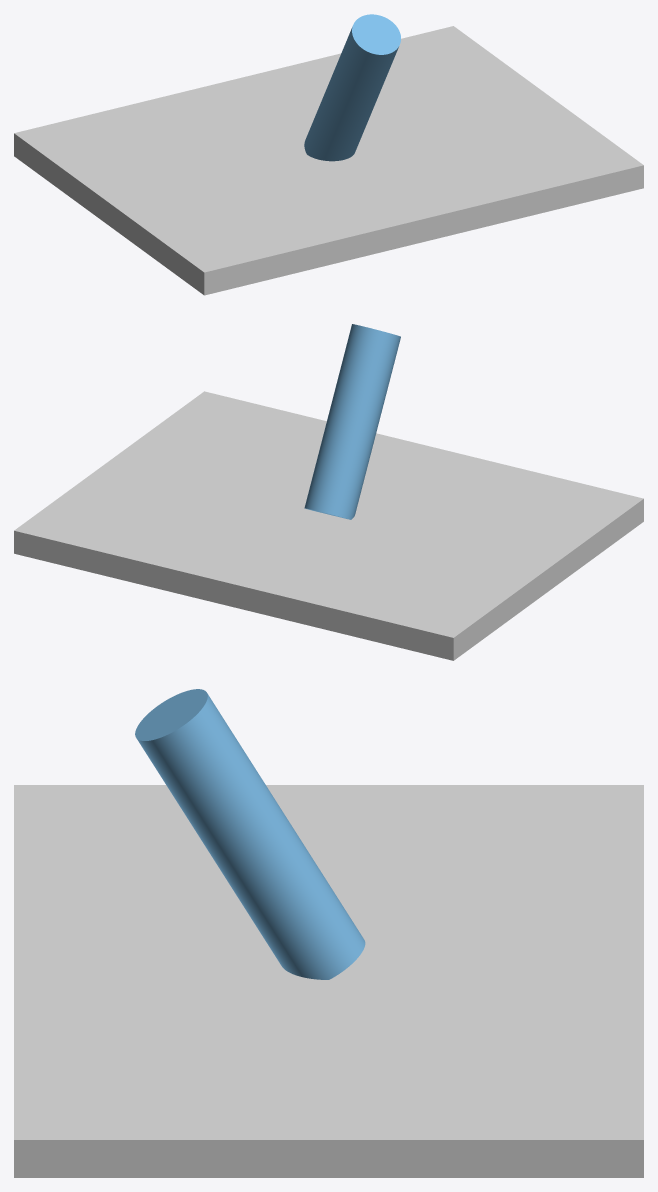
Rendered from egimli_duzlem_montaji.gltf.
3 views of the same model, one above another, from view 1: azimuth 30°, elevation 25°; view 2: azimuth 150°, elevation 25°; view 3: azimuth 270°, elevation 25° (orthographic). The views are drawn at different scales.
Visible parts, largest first — view 1: taban_plakasi_part, egimli_silindir_part; view 2: taban_plakasi_part, egimli_silindir_part; view 3: taban_plakasi_part, egimli_silindir_part.
Part boxes in pixels (x1,y1,x2,y2): taban_plakasi_part: [14, 26, 643, 295]; egimli_silindir_part: [304, 14, 400, 161]; taban_plakasi_part: [14, 391, 643, 660]; egimli_silindir_part: [304, 324, 400, 519]; taban_plakasi_part: [14, 785, 643, 1177]; egimli_silindir_part: [135, 689, 365, 979].
Size of the model in its own units: 40 by 15.99 by 30.
